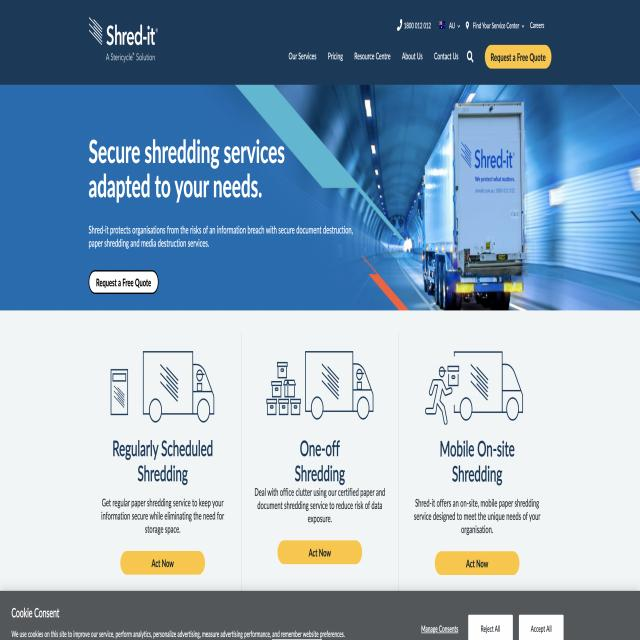Logo: (82, 7, 163, 76)
Navigation: (280, 38, 554, 79)
